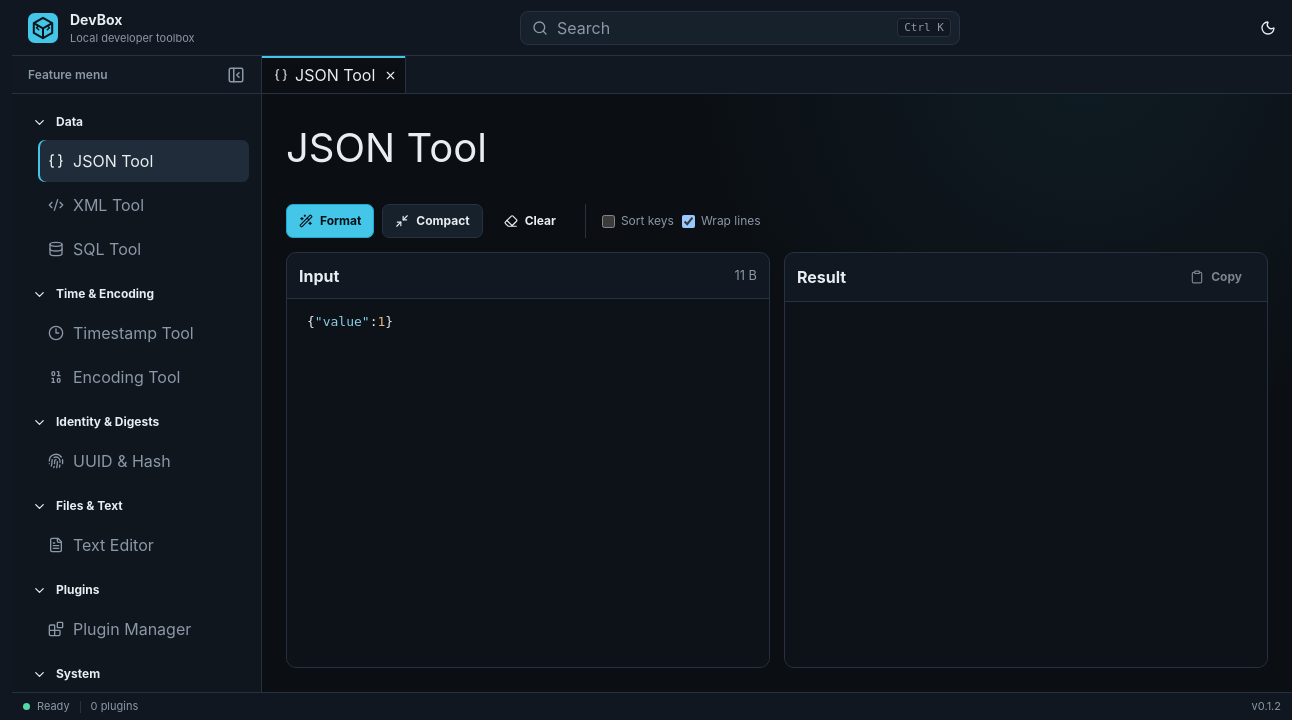
Test: App › 文本结果可以通过统一按钮复制
The image size is (1292, 720).
Expected: the heading "JSON Tool" is shown, 286,126 -> 487,170
Click the button "Format": (330, 221) 286,204 -> 374,238
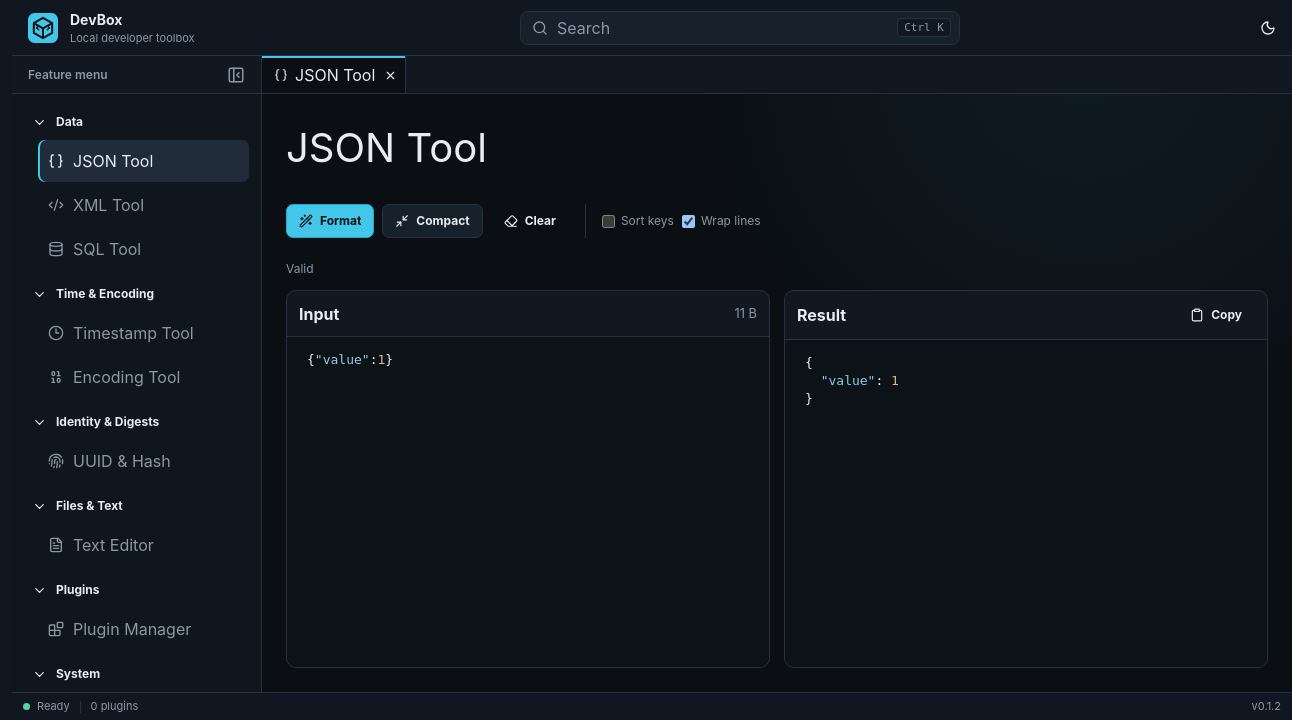
Click the button "Copy": (1216, 315) 1177,298 -> 1255,332
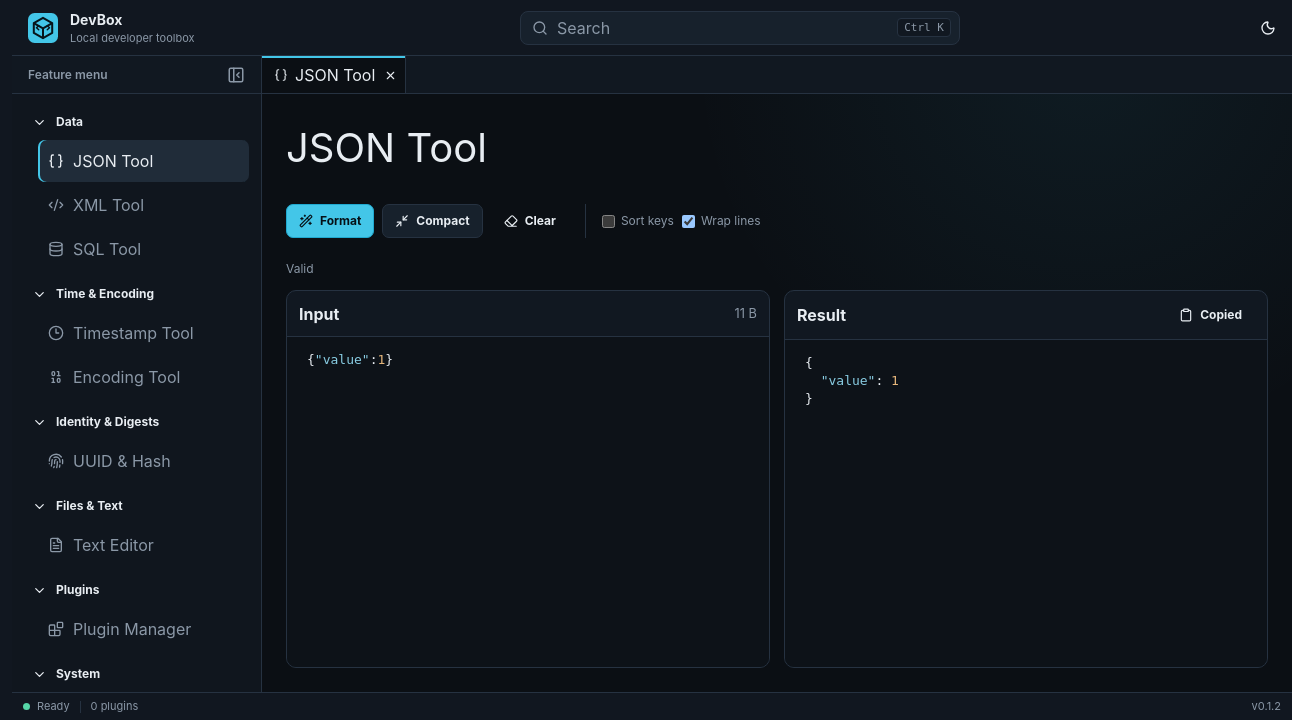
Expected: the button "Copied" is shown, 1166,298 -> 1255,332
